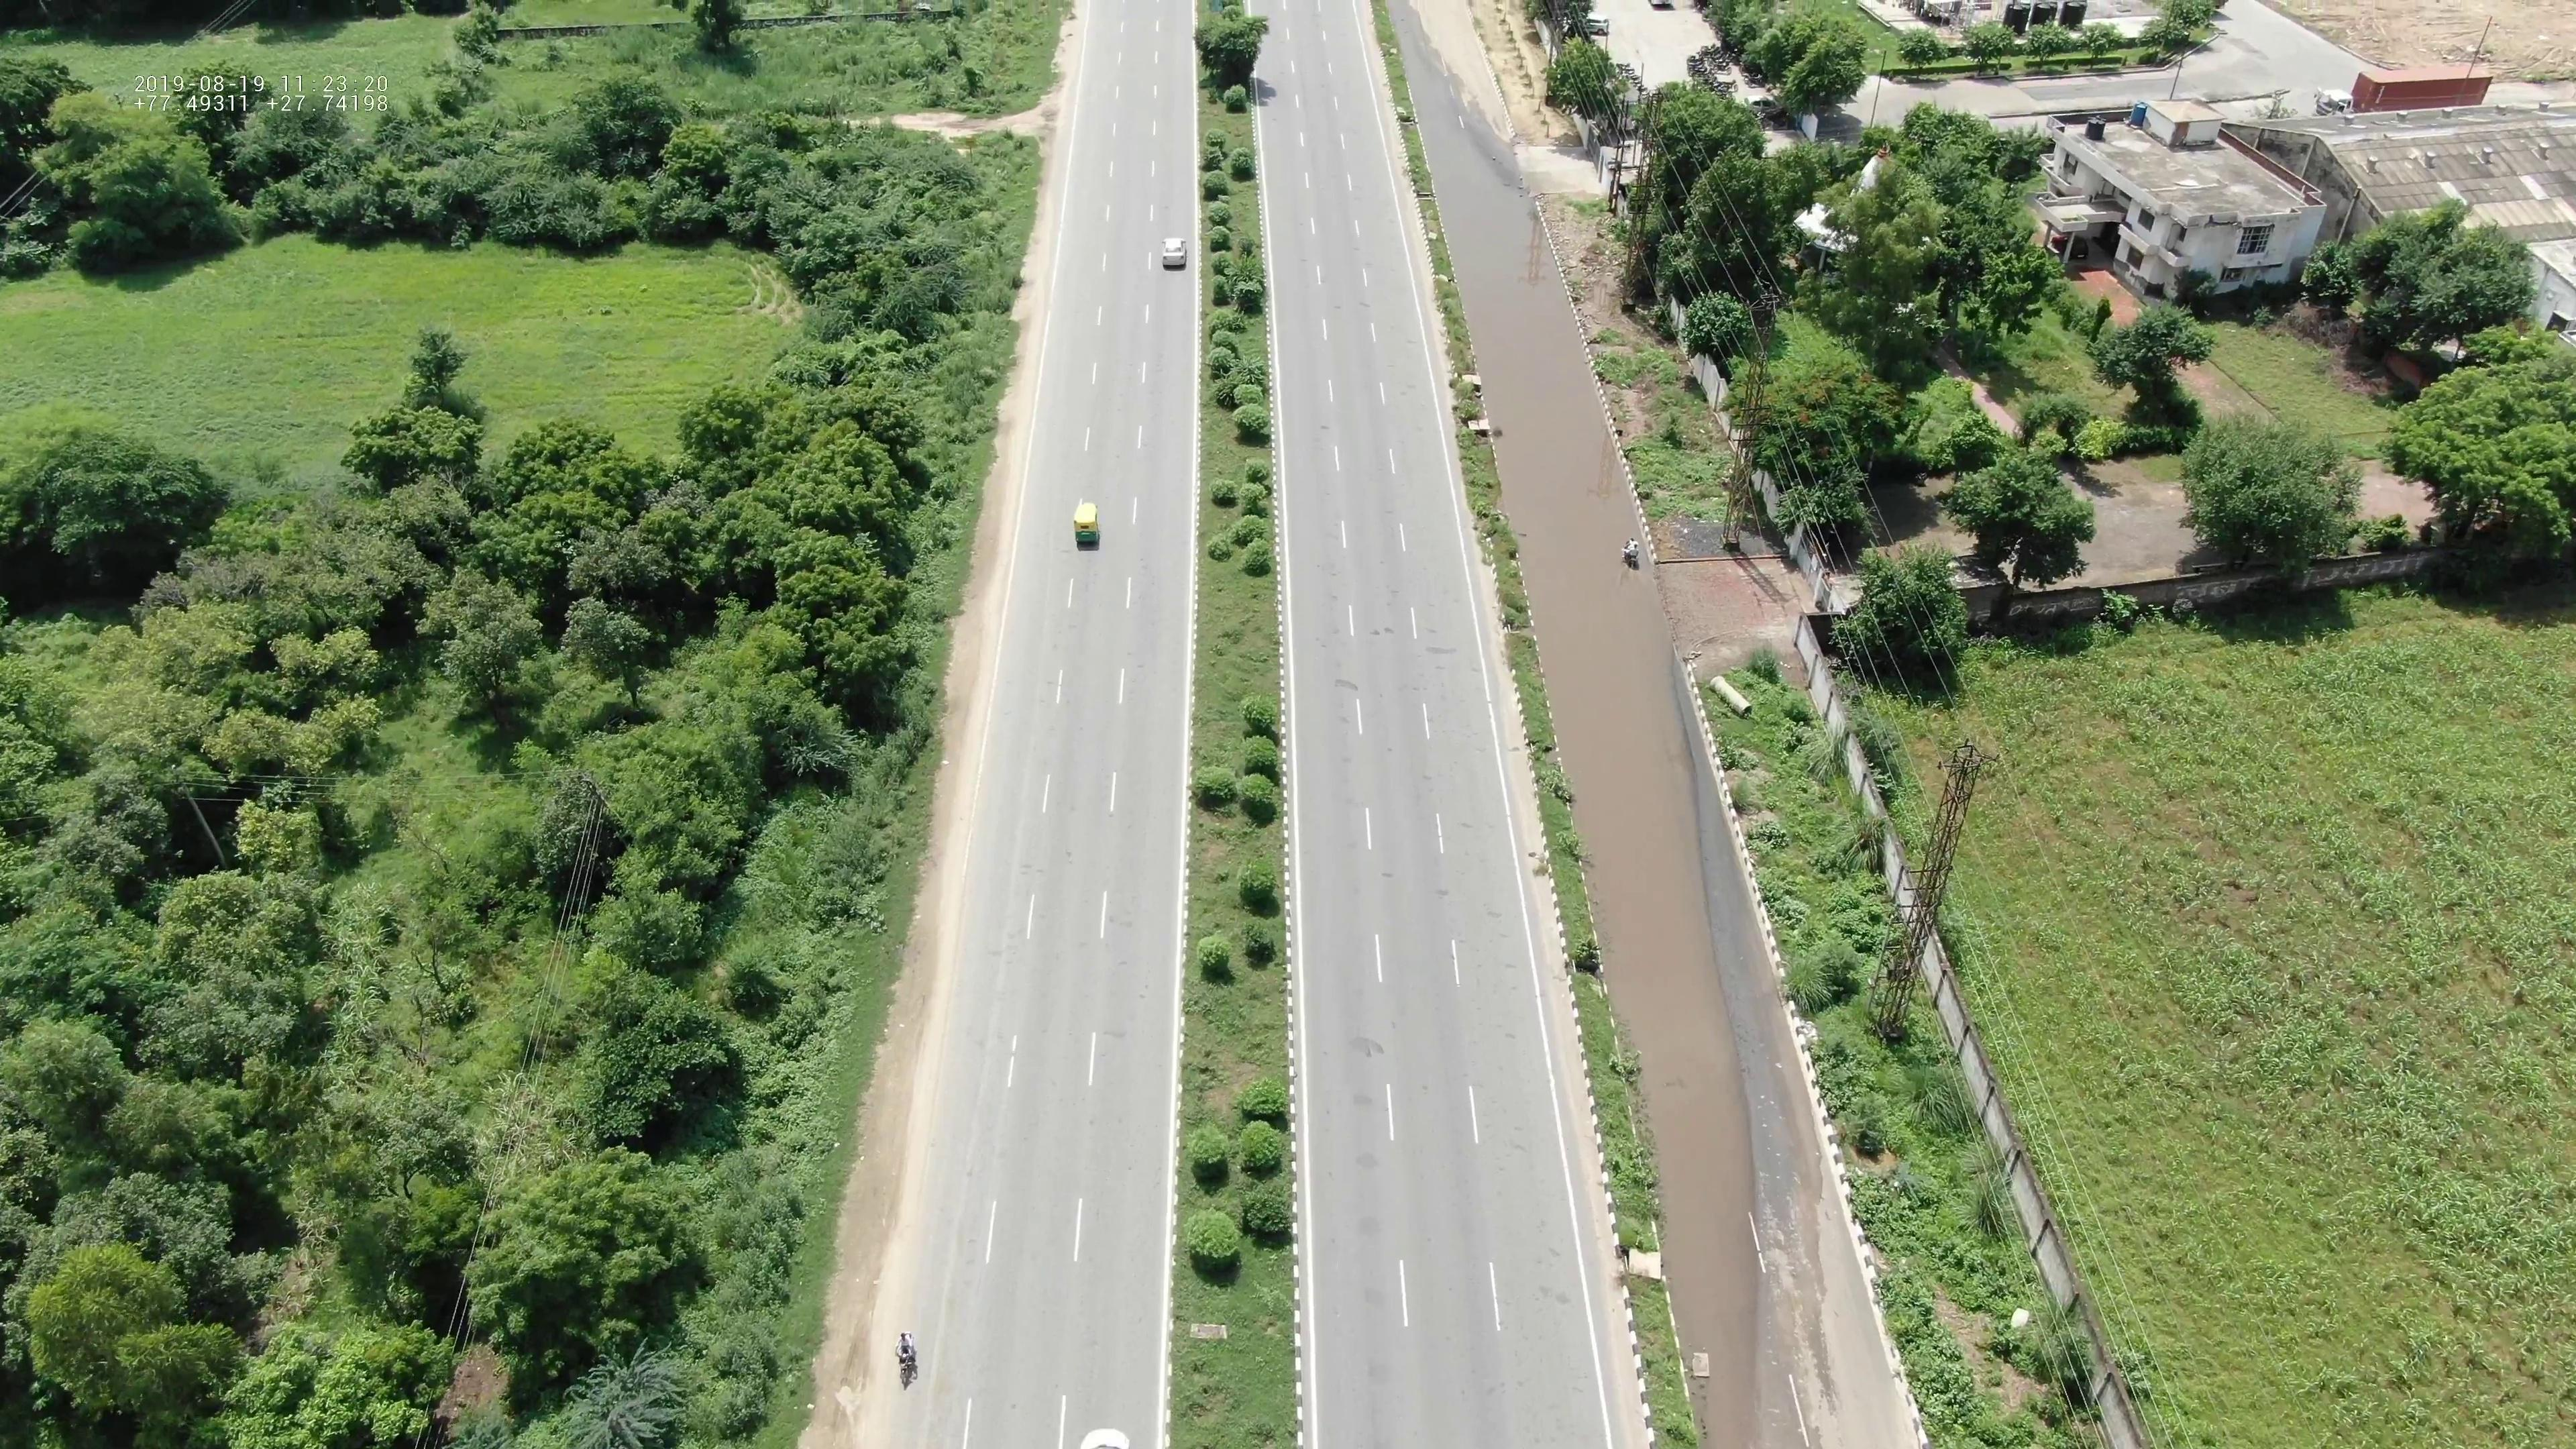Waterlogging: (1529, 609, 1773, 1396), (1442, 142, 1654, 591)
